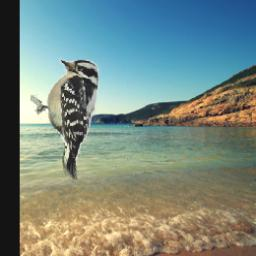Woodpecker: (31, 56, 101, 180)
